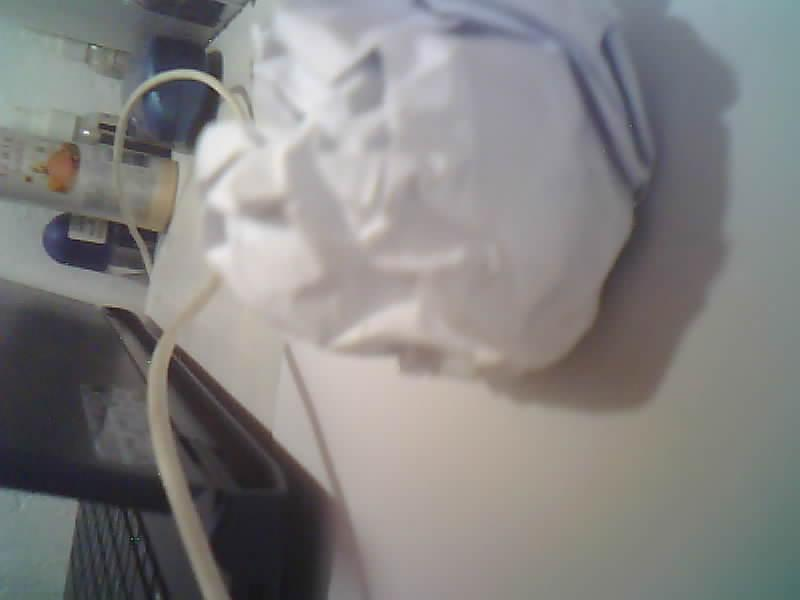biodegradable: (195, 0, 653, 374)
